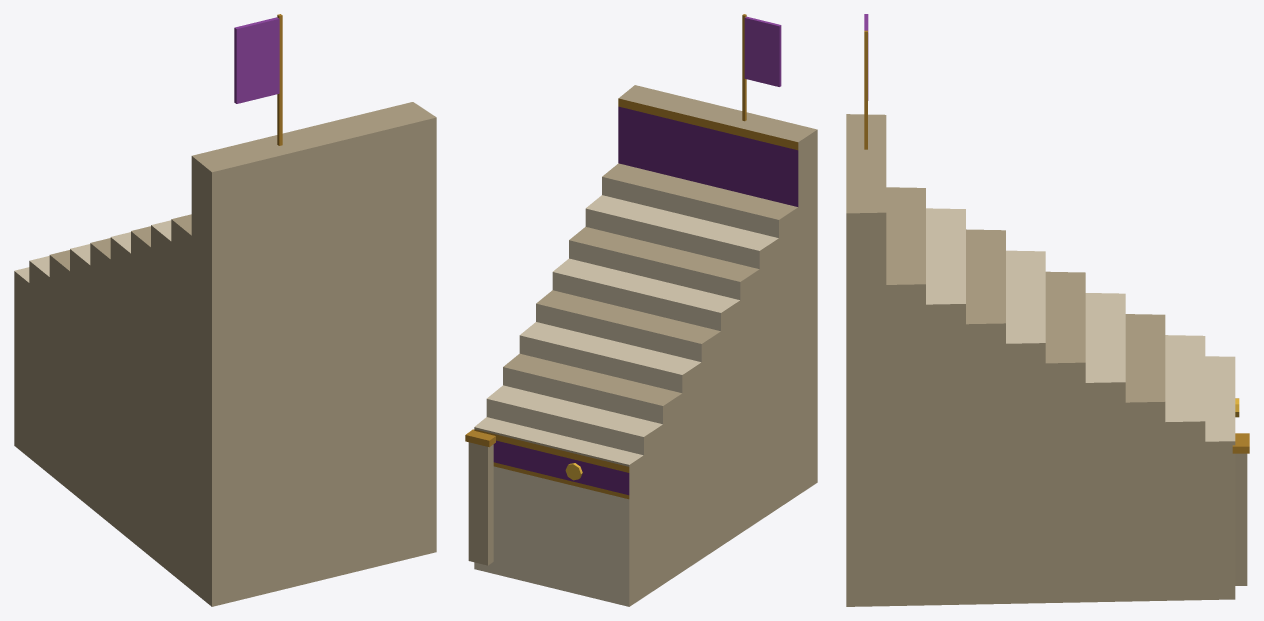
Rendered from SM_ImpStand_Curve.fbx.
The picture shows the model from 3 angles, left to right: view 1: azimuth 30°, elevation 25°; view 2: azimuth 150°, elevation 25°; view 3: azimuth 270°, elevation 25°; orthographic projection. The views are drawn at different scales.
Visible parts, largest first — view 1: SM_ImpStand_Curve; view 2: SM_ImpStand_Curve; view 3: SM_ImpStand_Curve.
Part boxes in pixels (bbox=[...]): SM_ImpStand_Curve: bbox=[14, 14, 436, 606]; SM_ImpStand_Curve: bbox=[465, 14, 817, 606]; SM_ImpStand_Curve: bbox=[846, 14, 1249, 606].
Size of the model in its own units: 4.71 by 8.08 by 11.3.
